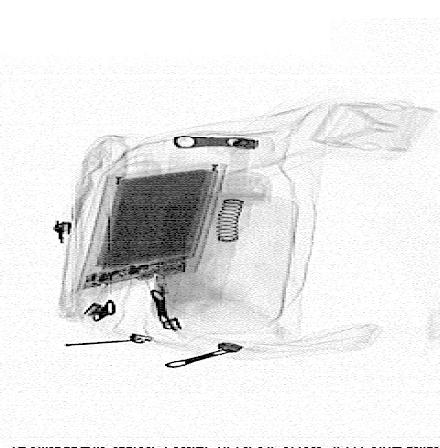Powerbank: (74, 160, 226, 297)
